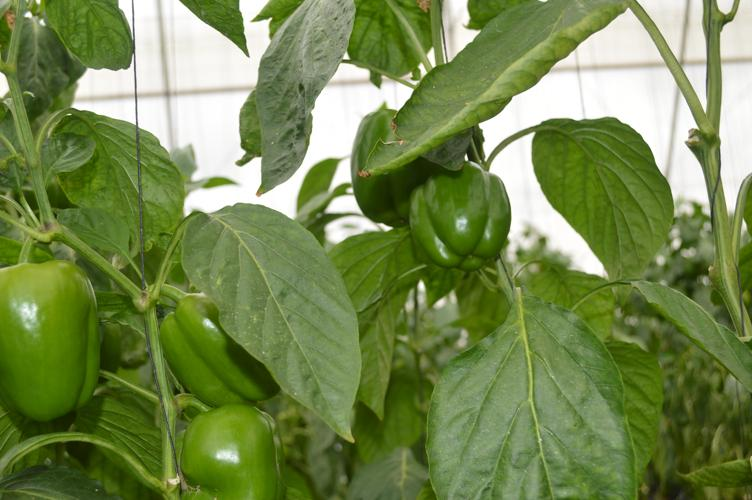BellPepper: (1, 267, 105, 421), (151, 288, 282, 406), (405, 169, 524, 276), (343, 98, 432, 233), (169, 405, 290, 500)
